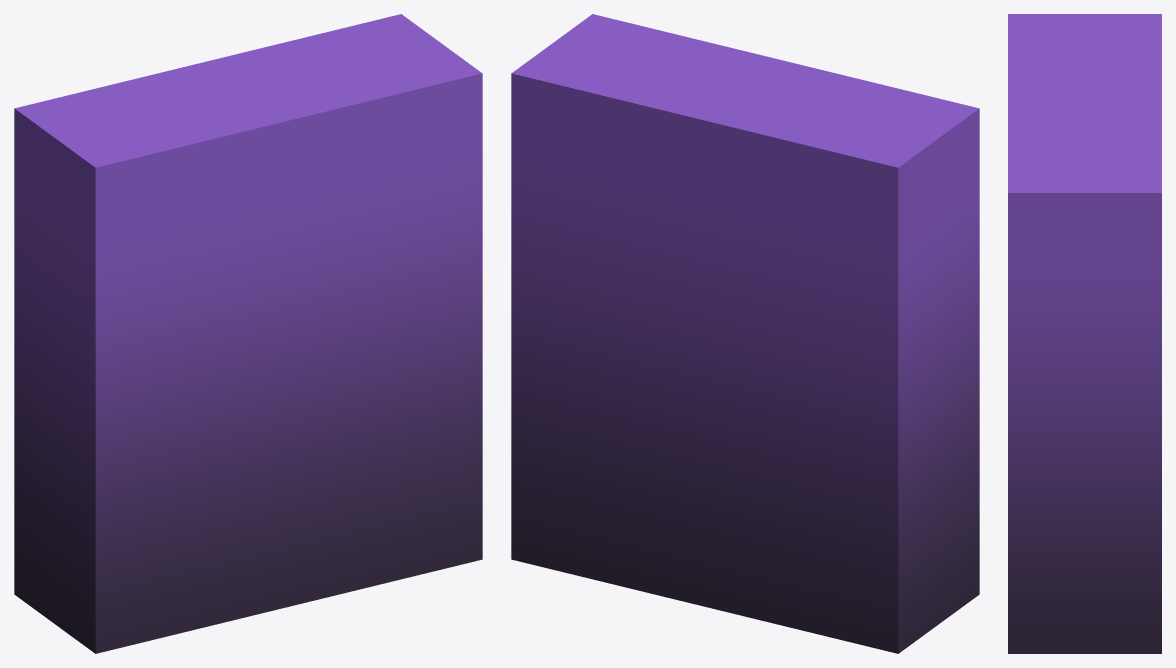
Rendered from Plat01.008.glb.
3 views of the same model, side by side, from view 1: azimuth 30°, elevation 25°; view 2: azimuth 150°, elevation 25°; view 3: azimuth 270°, elevation 25° (orthographic). The views are drawn at different scales.
Parts seen in each view (by area): view 1: Plat01.008; view 2: Plat01.008; view 3: Plat01.008.
Part boxes in pixels (bbox=[...]): Plat01.008: bbox=[14, 14, 482, 653]; Plat01.008: bbox=[511, 14, 979, 653]; Plat01.008: bbox=[1008, 14, 1161, 653].
Size of what is drawn, in the model's own units: 5.51 by 6.61 by 2.
1 material, 1 textured.
